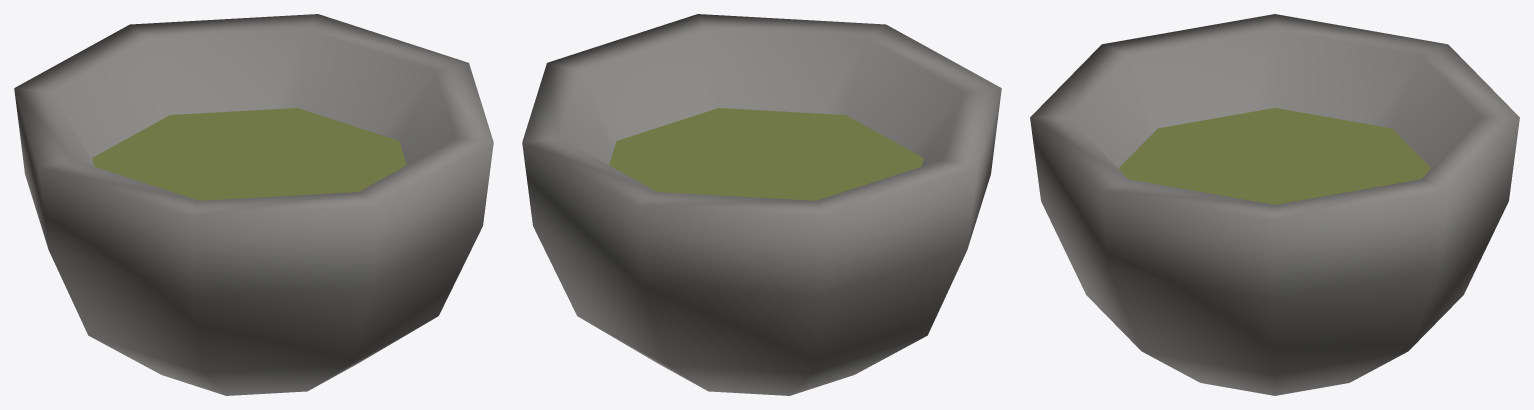
The model's file is rpgpp_ag_mortar_01b.fbx.
The picture shows the model from 3 angles, left to right: view 1: azimuth 30°, elevation 25°; view 2: azimuth 150°, elevation 25°; view 3: azimuth 270°, elevation 25°; orthographic projection.
Visible parts, largest first — view 1: rpgpp_ag_mortar_01b; view 2: rpgpp_ag_mortar_01b; view 3: rpgpp_ag_mortar_01b.
Part boxes in pixels (bbox=[...]): rpgpp_ag_mortar_01b: bbox=[14, 14, 493, 395]; rpgpp_ag_mortar_01b: bbox=[522, 14, 1001, 395]; rpgpp_ag_mortar_01b: bbox=[1030, 14, 1519, 395].
Bounding box in the file's own units: 0.2871 × 0.1512 × 0.2871.
